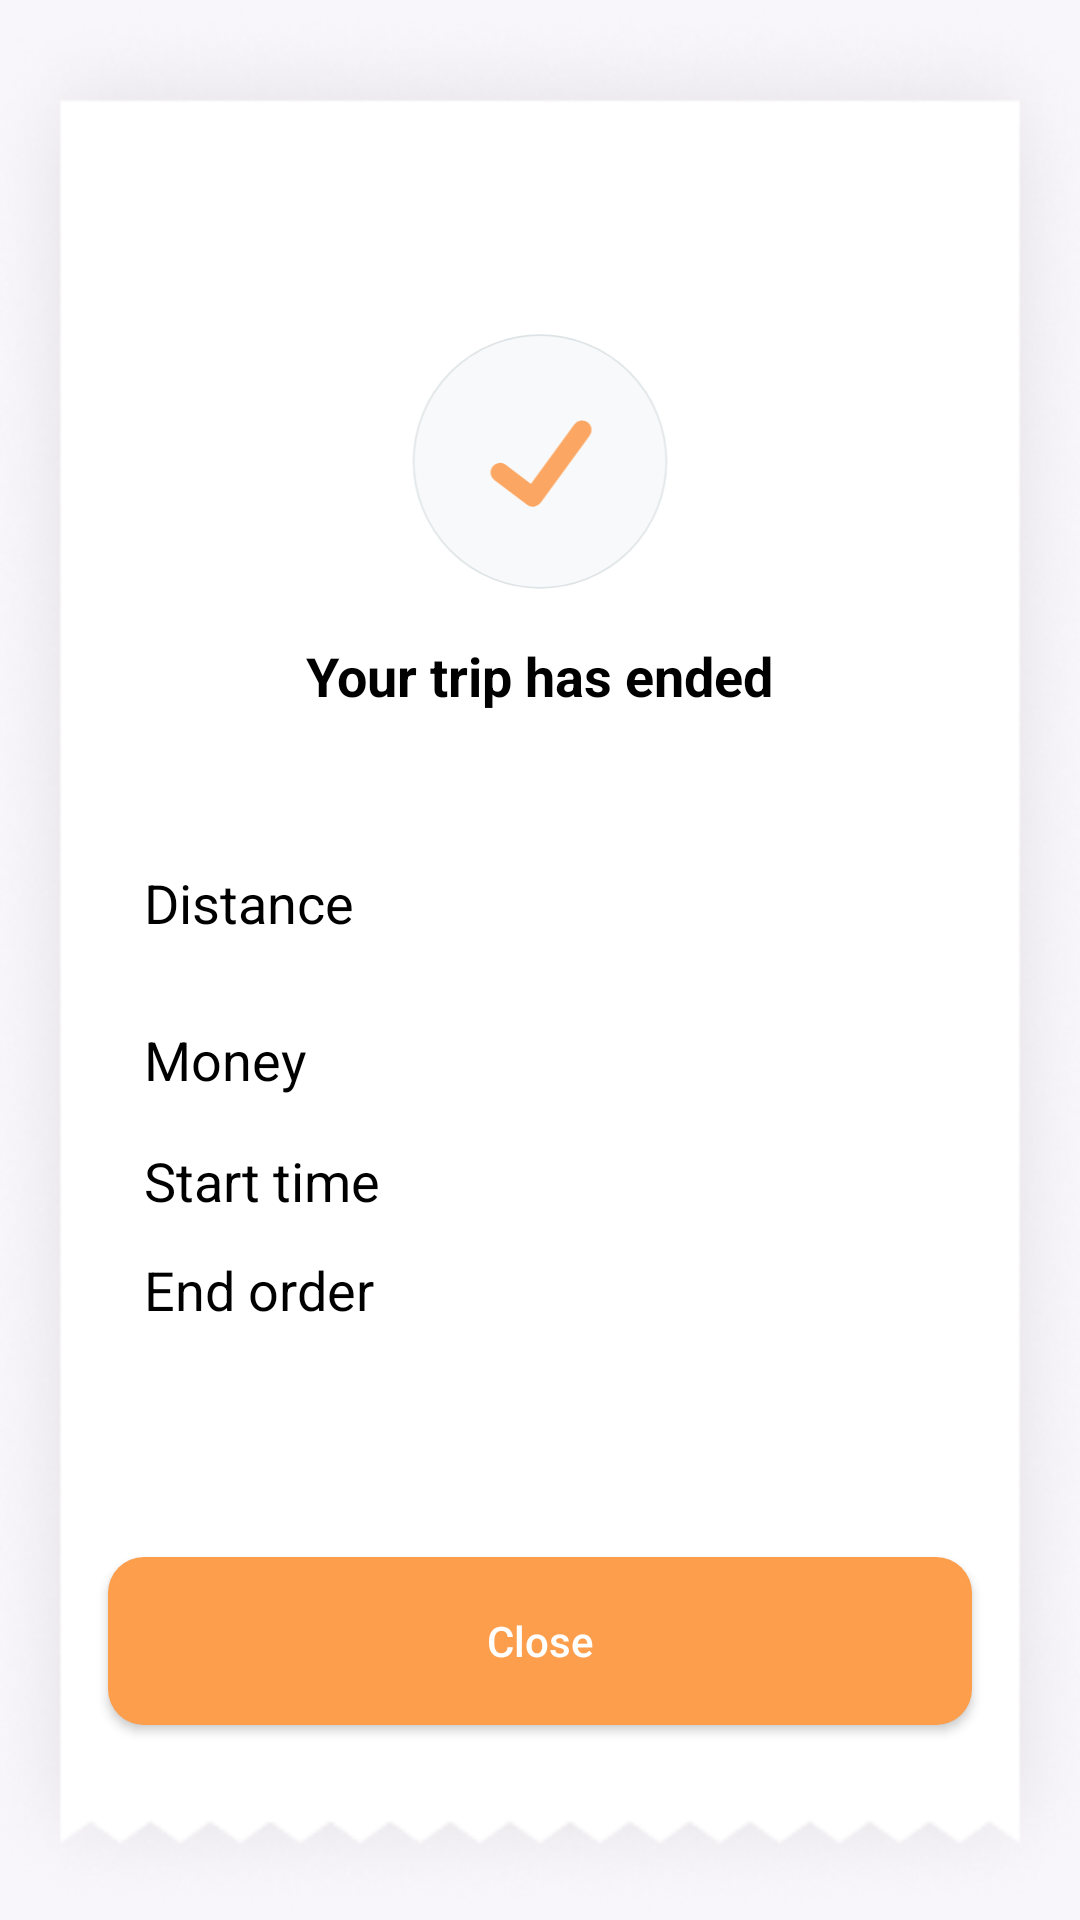

Screen size 1080 × 1920. Icon name, then its box in pixels as (x1, y1, x2, y2):
success order: (413, 335, 667, 588)
